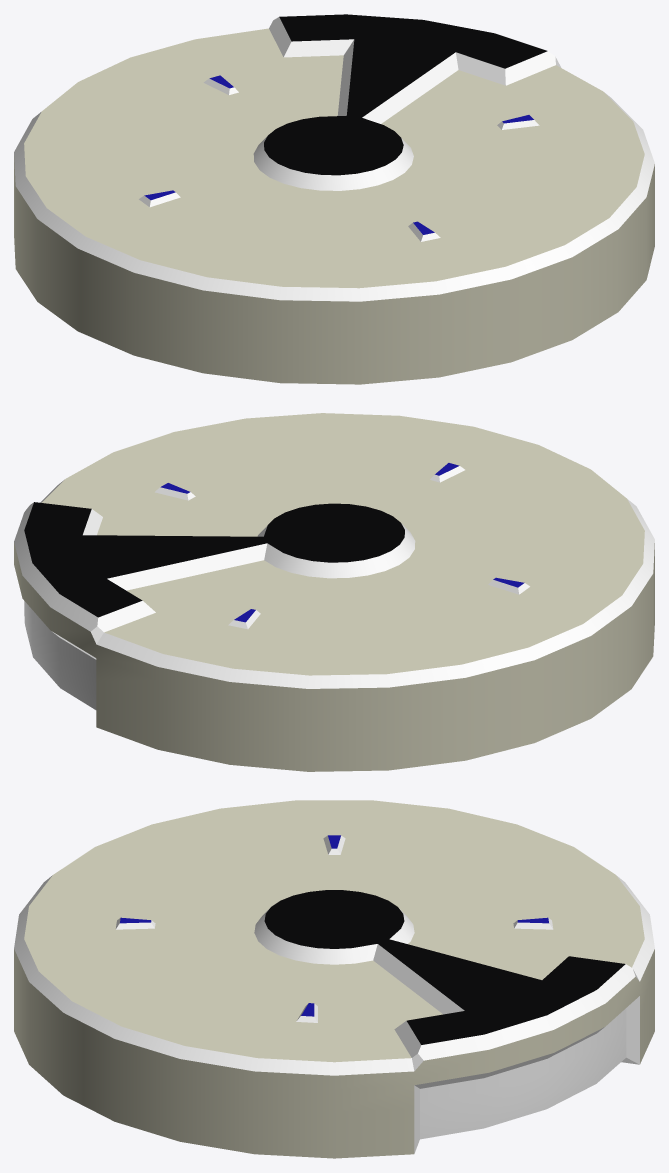
The model's file is roomba.fbx.
3 renders of one model, top to bottom at view 1: azimuth 30°, elevation 25°; view 2: azimuth 150°, elevation 25°; view 3: azimuth 270°, elevation 25°, orthographic.
Visible parts, largest first — view 1: Robovac; view 2: Robovac; view 3: Robovac.
Part boxes in pixels (bbox=[...]): Robovac: bbox=[14, 14, 654, 384]; Robovac: bbox=[14, 413, 654, 771]; Robovac: bbox=[14, 800, 654, 1158].
Size of the model in its own units: 63 by 11.23 by 63.12.
